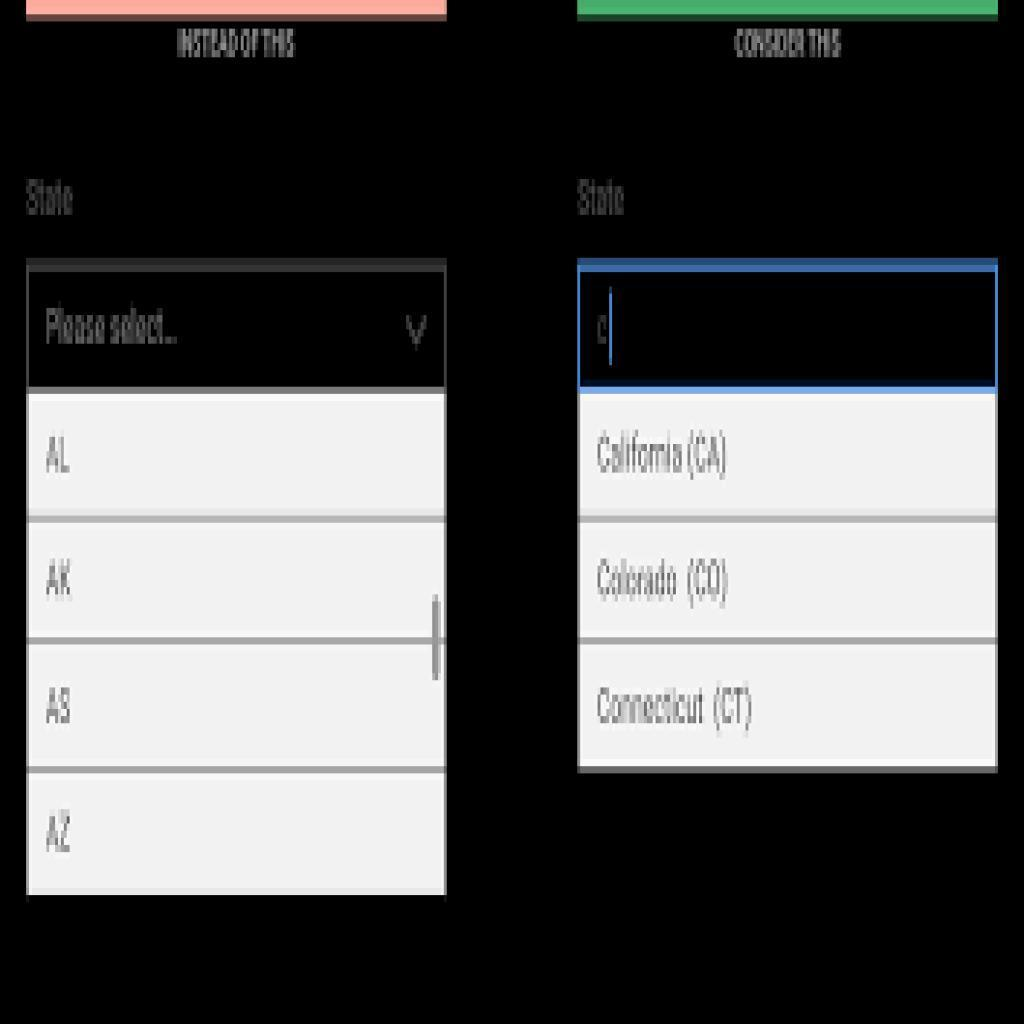dropdown: (26, 264, 447, 391)
input: (584, 269, 995, 397)
